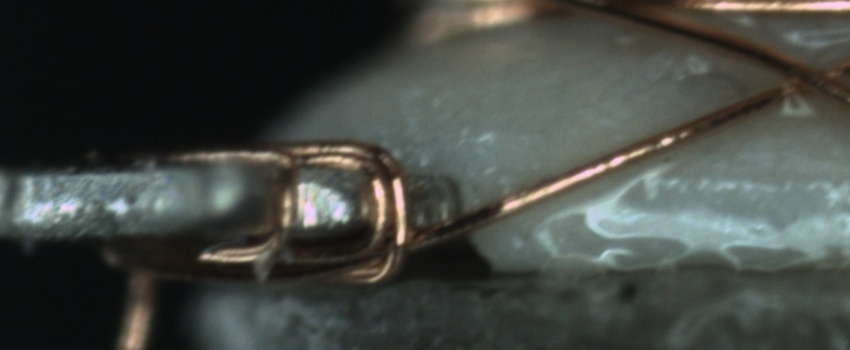CL: (760, 44, 844, 104)
TE: (163, 114, 414, 282)
